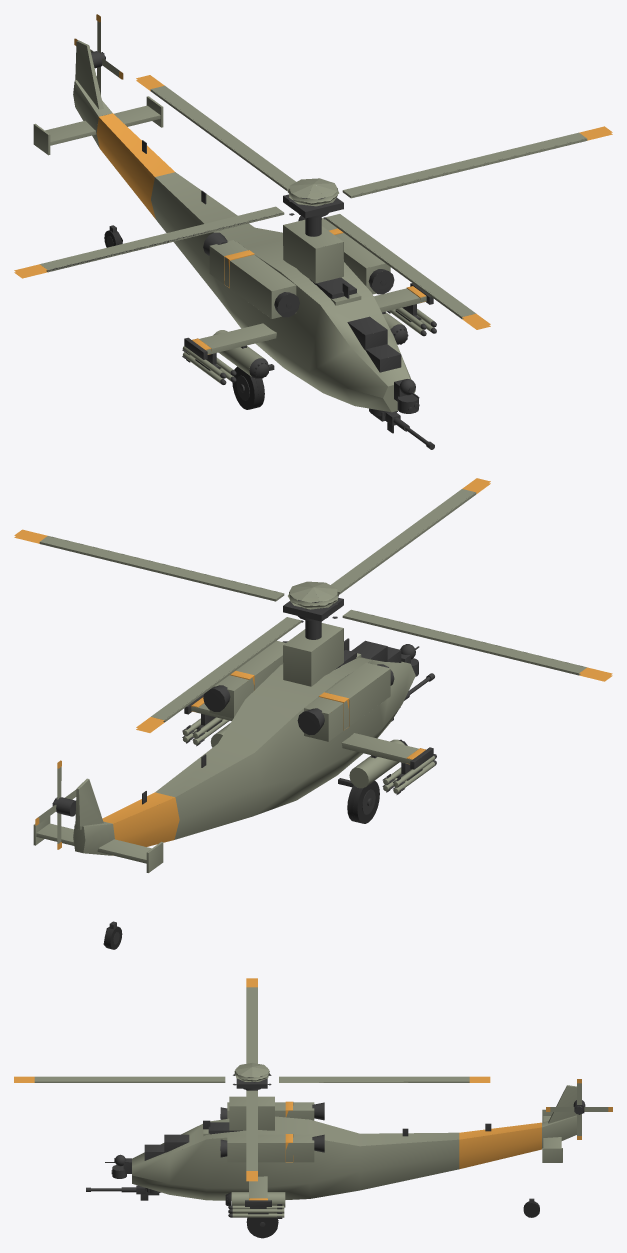
File: heli.glb
3 views of the same model, one above another, from view 1: azimuth 30°, elevation 25°; view 2: azimuth 150°, elevation 25°; view 3: azimuth 270°, elevation 25° (orthographic). The views are drawn at different scales.
Visible parts, largest first — view 1: body, rotor_main; view 2: body, rotor_main, rotor_tail; view 3: body, rotor_main, rotor_tail.
Part boxes in pixels (x1,y1,x2,y2): body: (33, 40, 436, 449); rotor_main: (14, 75, 612, 329); body: (33, 616, 436, 949); rotor_main: (14, 478, 612, 732); rotor_tail: (35, 760, 76, 849); body: (86, 1085, 585, 1238); rotor_main: (14, 978, 490, 1181); rotor_tail: (546, 1079, 612, 1139).
Size of the model in its own units: 11.5 by 3.99 by 14.46.
